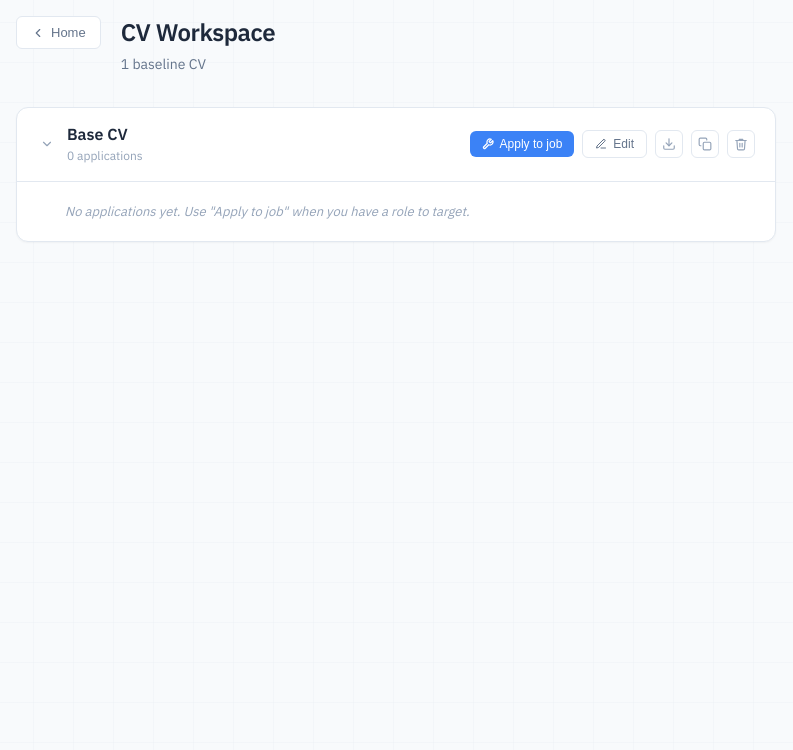
Test: Dashboard download feedback › (g) compile success with warnings downloads the PDF and shows a warning toast
Check: the text "Base CV" is shown, box [67,124,128,144]
Click the button titled "Download PDF": (669, 144) [655,130,683,158]
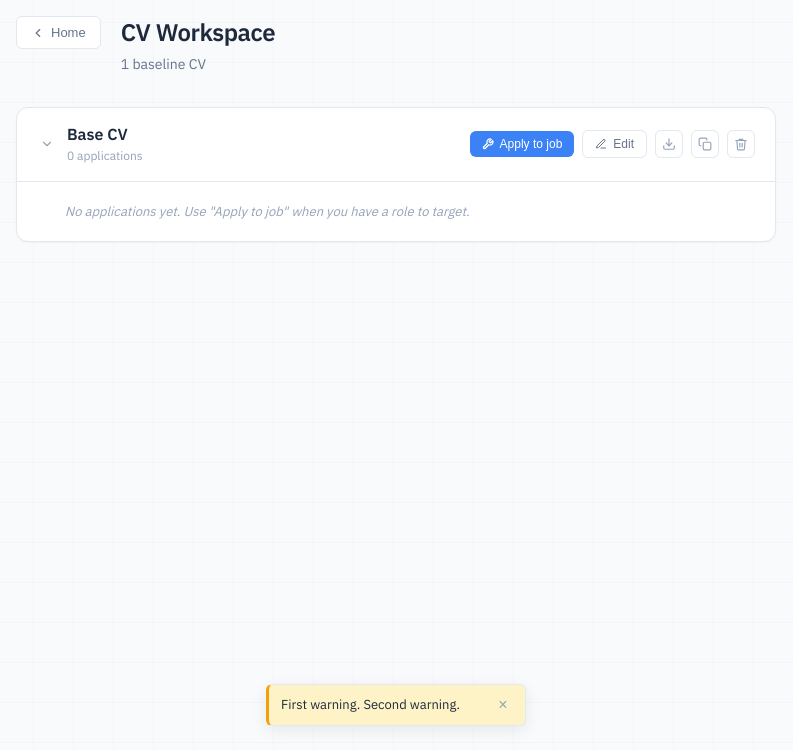
Check: the text "First warning. Second warning." is shown, box [281,695,483,715]
